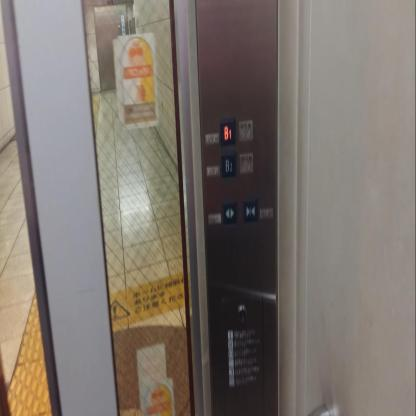B1: (219, 116, 237, 146)
B2: (219, 152, 237, 178)
close: (240, 197, 259, 224)
keyhole: (235, 303, 249, 321)
open: (221, 200, 239, 225)
